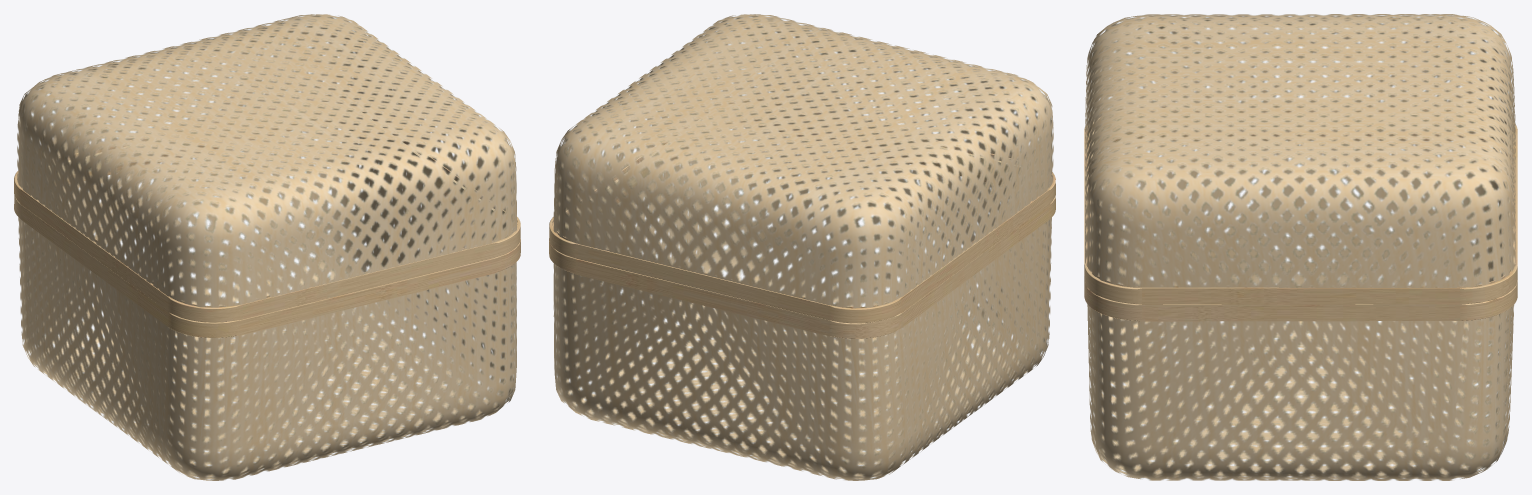
3 renders of one model, left to right at view 1: azimuth 30°, elevation 25°; view 2: azimuth 150°, elevation 25°; view 3: azimuth 270°, elevation 25°, orthographic. The views are drawn at different scales.
Parts seen in each view (by area): view 1: Box002; view 2: Box002; view 3: Box002.
Part boxes in pixels (<box>): Box002: <box>14,14,520,480</box>; Box002: <box>549,14,1055,480</box>; Box002: <box>1084,14,1517,480</box>.
Size of the model in its own units: 0.3002 by 0.2397 by 0.3.
2 materials, 2 textured.
